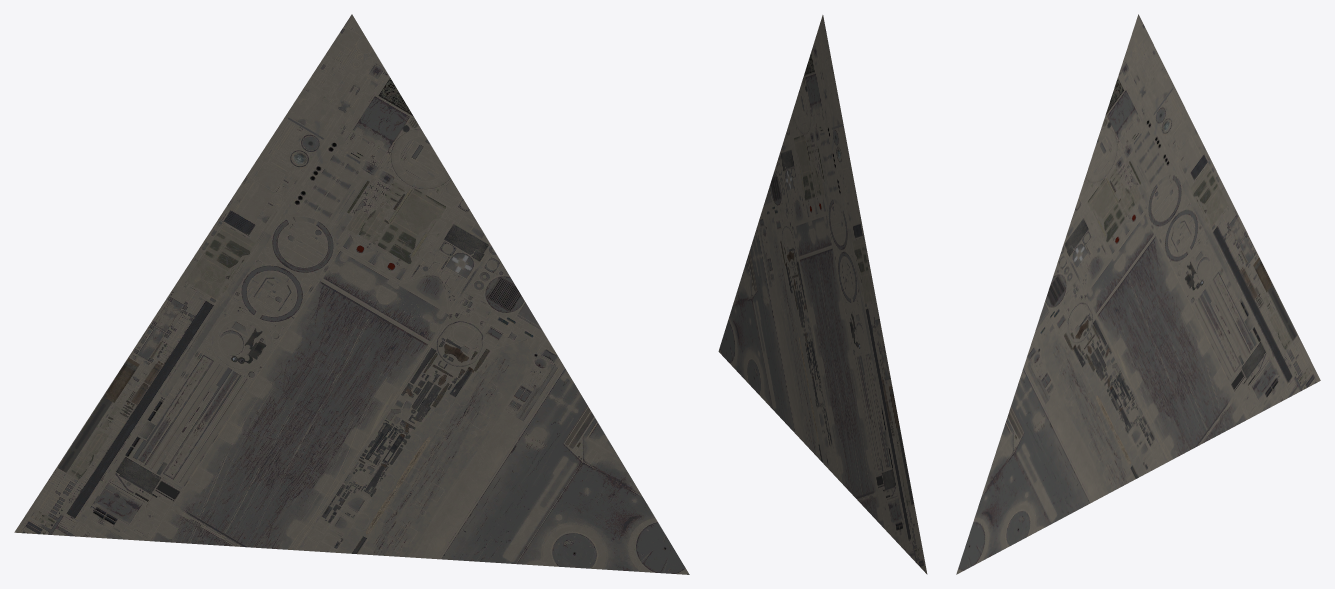
Rendered from Turret_01.glb.
The picture shows the model from 3 angles, left to right: view 1: azimuth 30°, elevation 25°; view 2: azimuth 150°, elevation 25°; view 3: azimuth 270°, elevation 25°; orthographic projection. The views are drawn at different scales.
Parts seen in each view (by area): view 1: set_0_group_0; view 2: set_0_group_0; view 3: set_0_group_0.
Boxes of the visible parts, x1,y1,x2,y2 form: set_0_group_0: (14,14,689,574); set_0_group_0: (718,15,927,574); set_0_group_0: (956,14,1320,574).
Size of the model in its own units: 0.0674 by 0.075 by 0.0535.
1 material, 1 textured.
